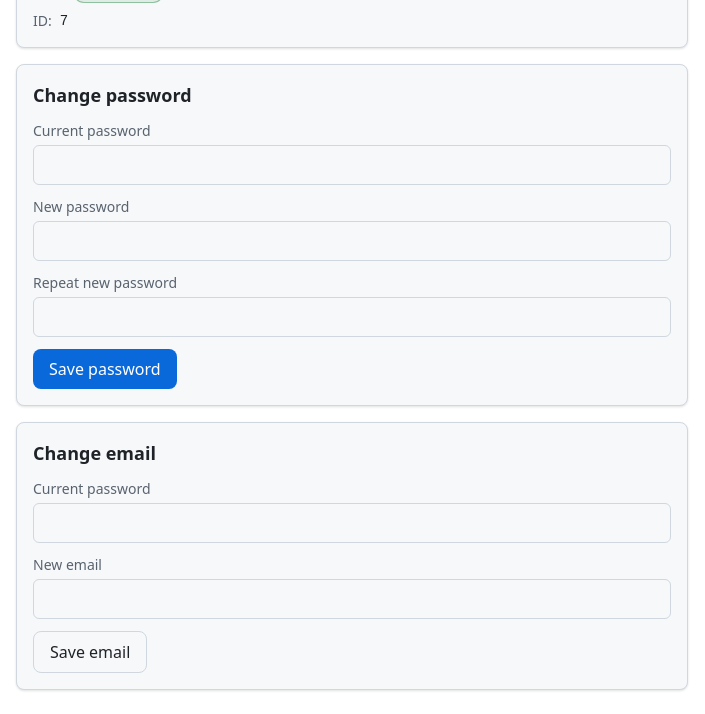
Test: 409 duplicate email surfaces ApiError detail in email-error
The width and height of the screenshot is (705, 714).
(page scrolled)
Type "Old123!" into the password field with test id "input-current-password-2".
click(352, 523); type("Old123!")  # box [33,503,671,543]
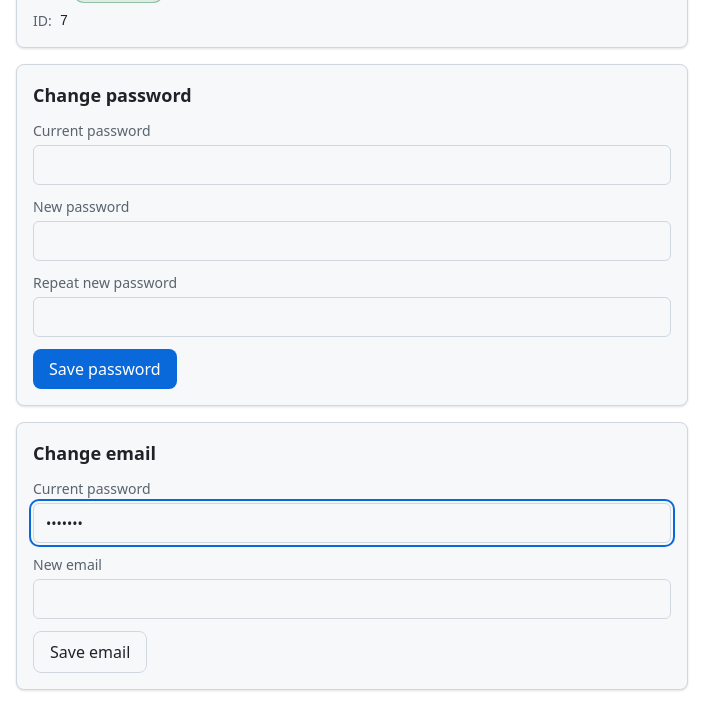
Type "dup@x.io" into the field with test id "input-new-email".
click(352, 599); type("dup@x.io")  # box [33,579,671,619]
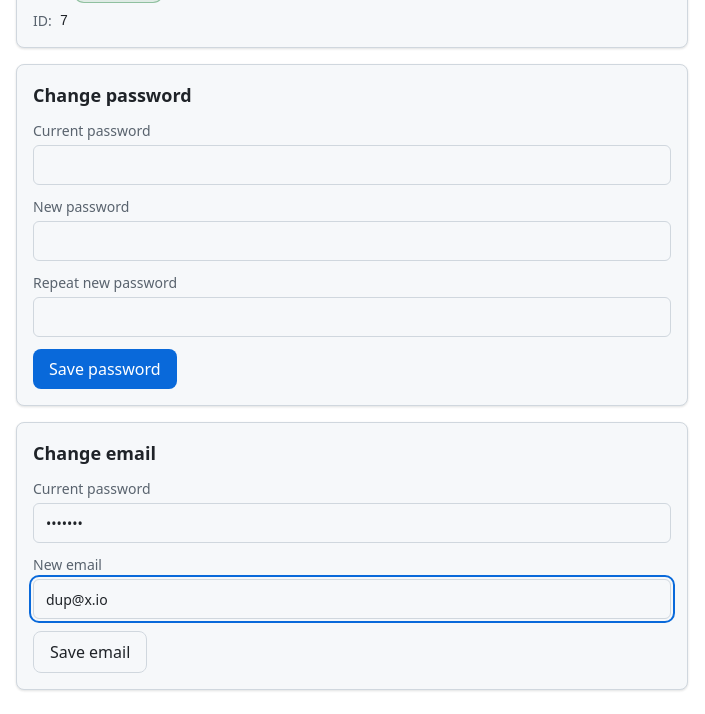
Click the button with test id "btn-save-email".
click(90, 652)  # box [33,631,147,673]
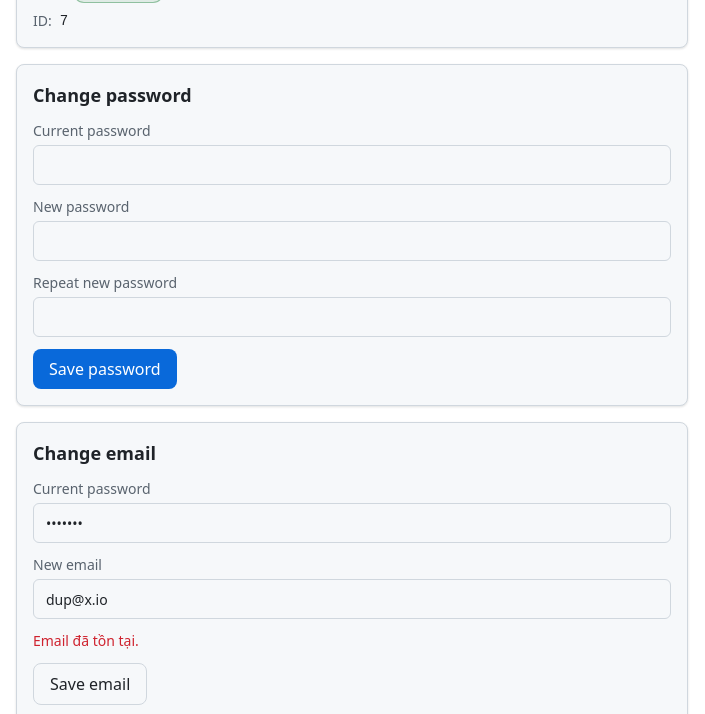
Expected: the message with test id "email-error" reads "Email đã tồn tại.", [33,631,139,650]
